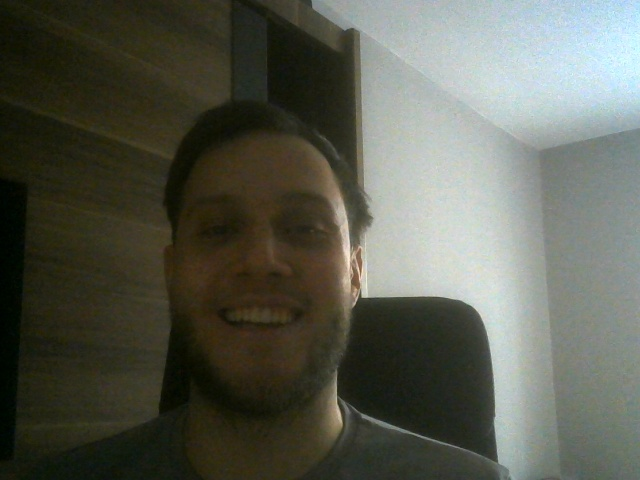happy: (163, 104, 363, 408)
